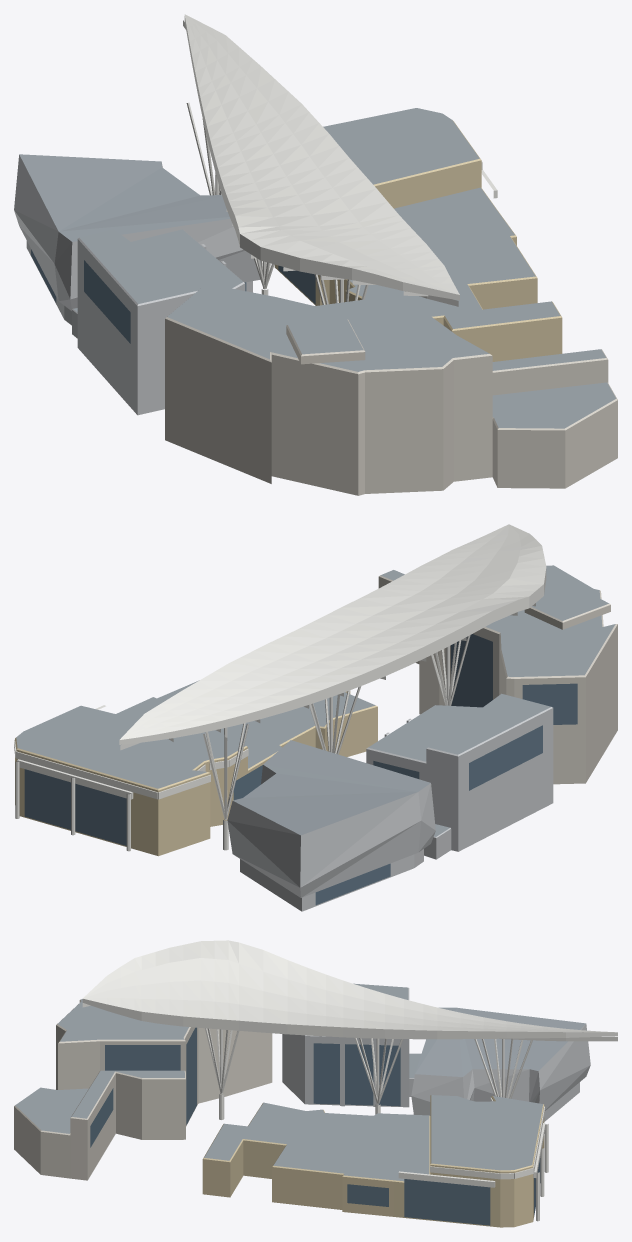
File: nola-national-wwii-museum.glb
3 renders of one model, top to bottom at view 1: azimuth 30°, elevation 25°; view 2: azimuth 150°, elevation 25°; view 3: azimuth 270°, elevation 25°, orthographic. The views are drawn at different scales.
Parts seen in each view (by area): view 1: The National WWII Museum; view 2: The National WWII Museum; view 3: The National WWII Museum.
Boxes of the visible parts, bbox=[...] form: The National WWII Museum: bbox=[14, 14, 617, 495]; The National WWII Museum: bbox=[14, 524, 617, 911]; The National WWII Museum: bbox=[14, 940, 617, 1227].
Bounding box in the file's own units: 115 × 45.5 × 174.
